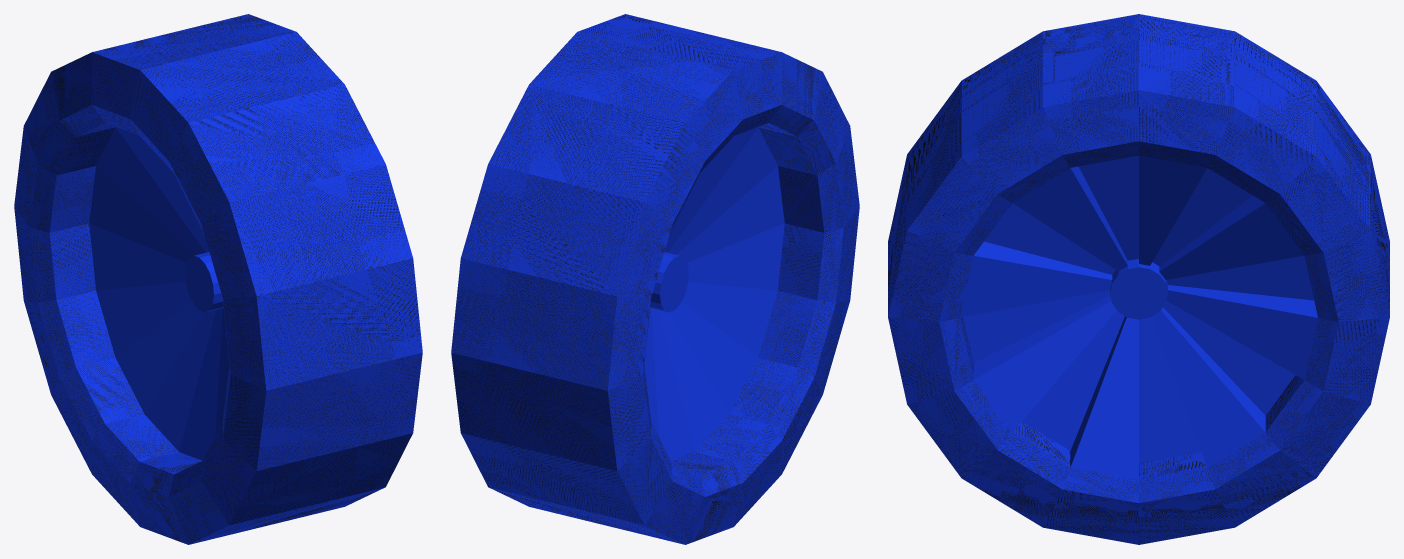
Rendered from Wheel.fbx.
3 views of the same model, side by side, from view 1: azimuth 30°, elevation 25°; view 2: azimuth 150°, elevation 25°; view 3: azimuth 270°, elevation 25° (orthographic).
Visible parts, largest first — view 1: Cube; view 2: Cube; view 3: Cube.
Part boxes in pixels (x1=…): Cube: x1=14, y1=14, x2=422, y2=544; Cube: x1=451, y1=14, x2=859, y2=544; Cube: x1=888, y1=14, x2=1389, y2=544.
Size of the model in its own units: 25.65 by 63.62 by 63.62.
